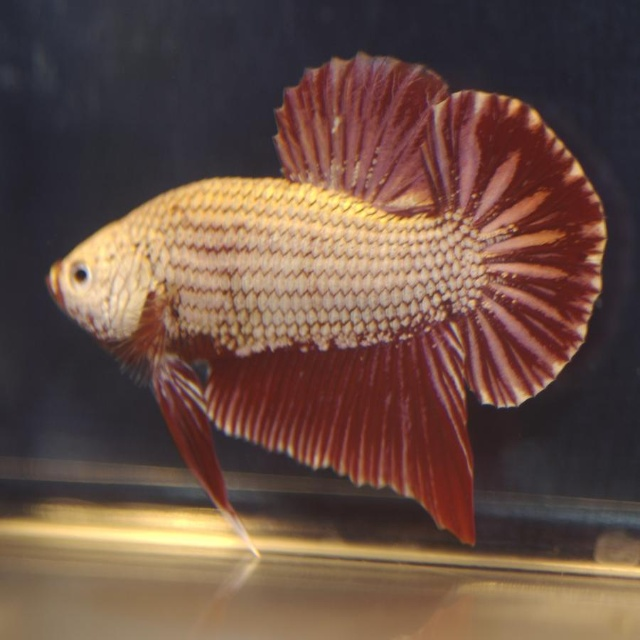Fish: (46, 53, 608, 557)
